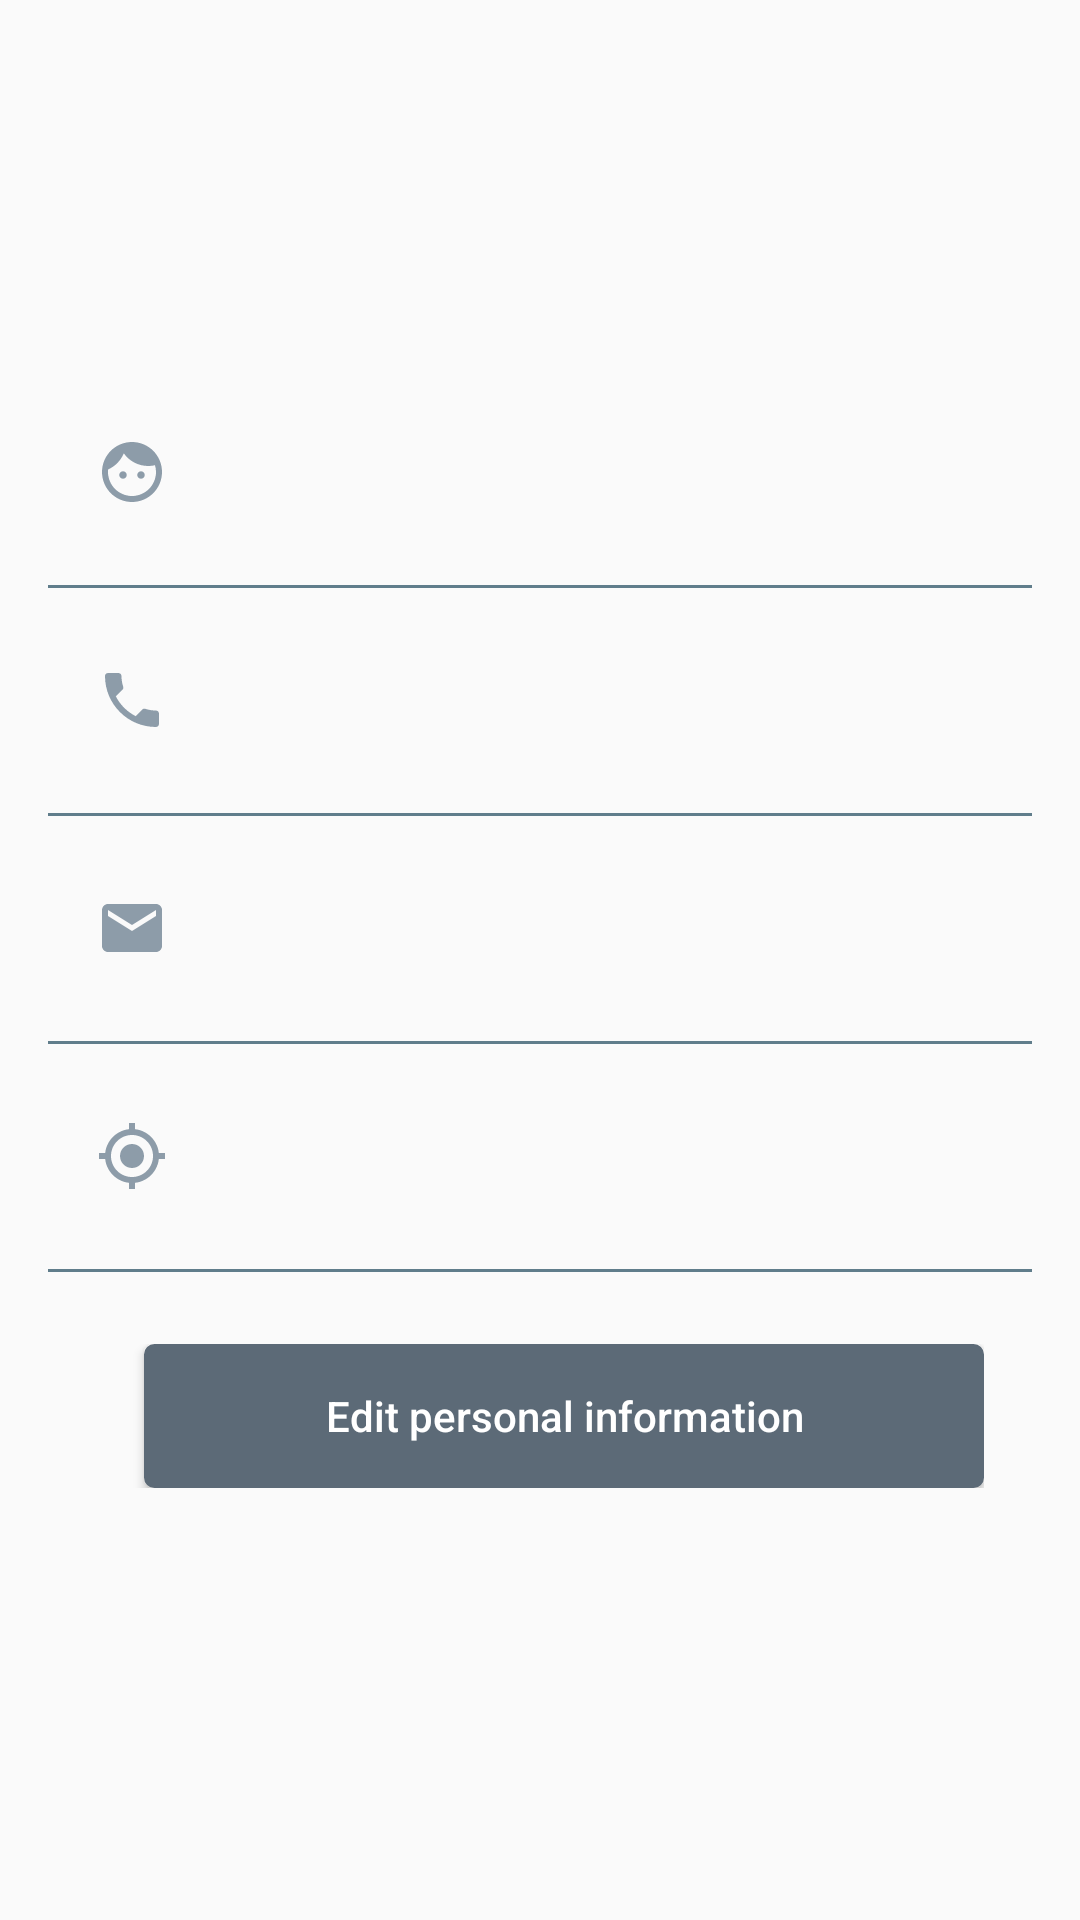

Screen size 1080 x 1920. Icon name, then its box in pixels as detection(x1, y1, x2, y2):
email: detection(102, 904, 162, 952)
face: detection(102, 442, 162, 502)
location: detection(99, 1123, 165, 1189)
phone: detection(105, 673, 159, 727)
